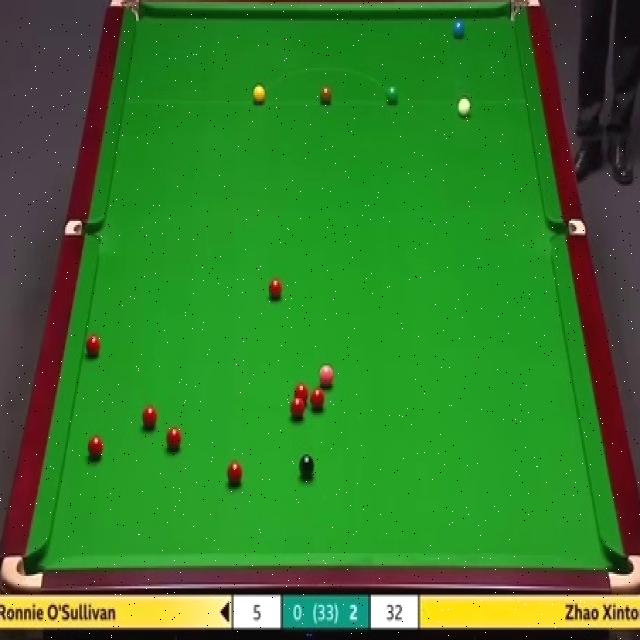black-ball: (298, 454, 316, 481)
blue-ball: (451, 15, 467, 40)
brown-ball: (319, 85, 333, 106)
green-ball: (386, 85, 400, 107)
pink-ball: (316, 364, 334, 389)
red-ball: (87, 434, 104, 462), (226, 460, 243, 487), (141, 406, 158, 433), (165, 426, 182, 452), (268, 276, 284, 302), (289, 397, 306, 421), (309, 387, 326, 410), (84, 334, 100, 358), (292, 383, 310, 404)
white-ball: (456, 95, 473, 120)
yellow-ball: (252, 84, 266, 106)
